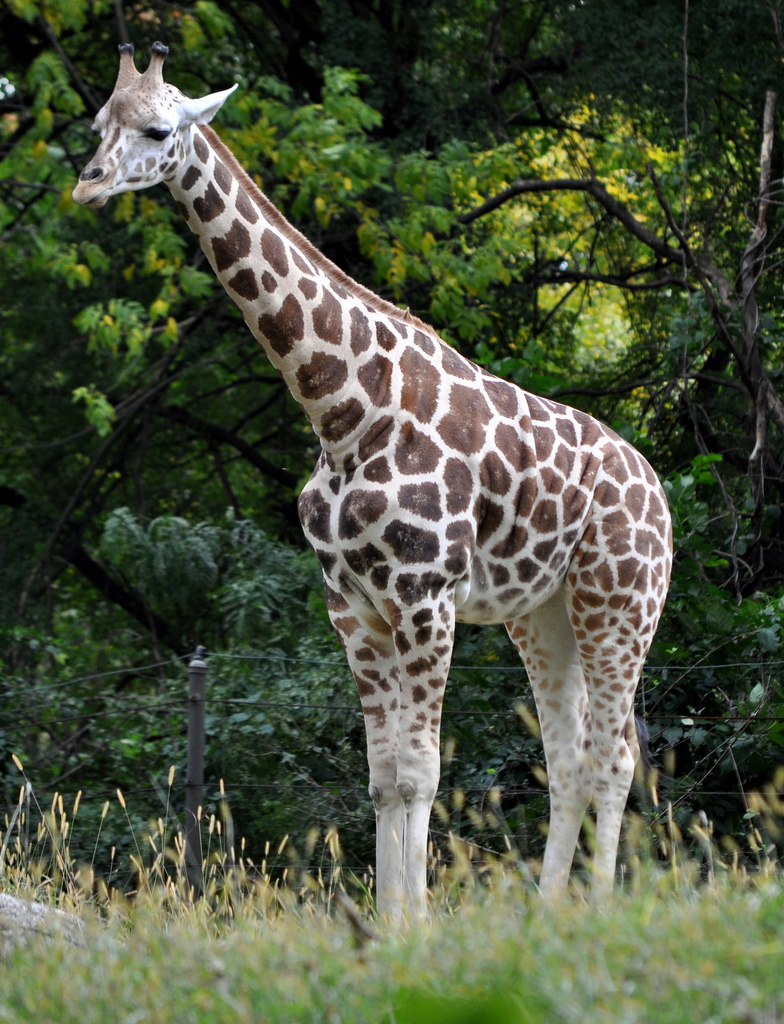giraffe: (53, 30, 709, 979)
